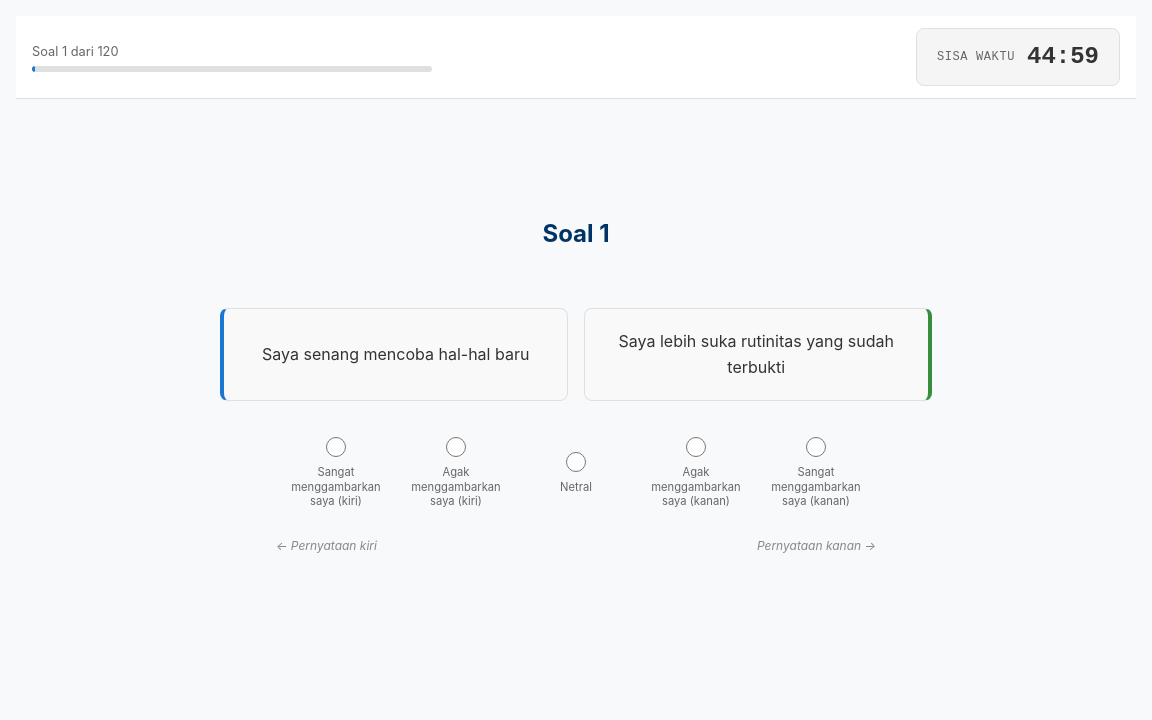
PersonalityTestPage › submits response and advances to next item on selection
Click the radio button labelled "Netral" at coordinates (576, 462), box [566,452,586,472]
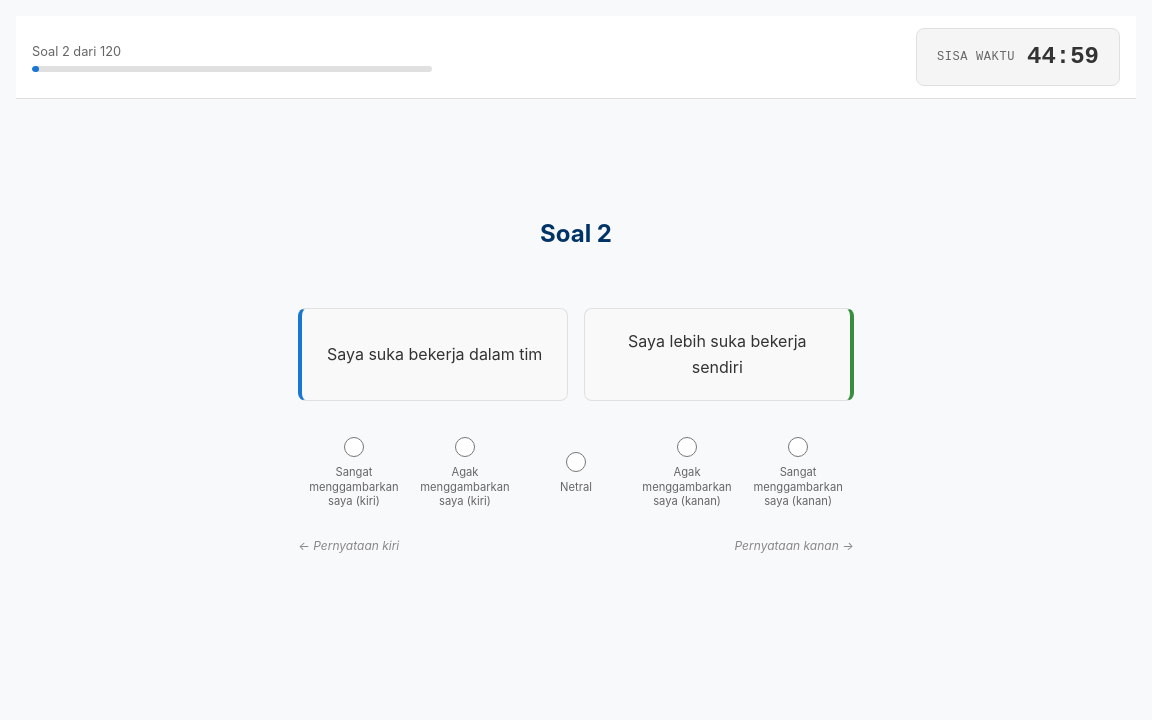
Expected: the text "Saya suka bekerja dalam tim" is shown, [298,308,568,401]
